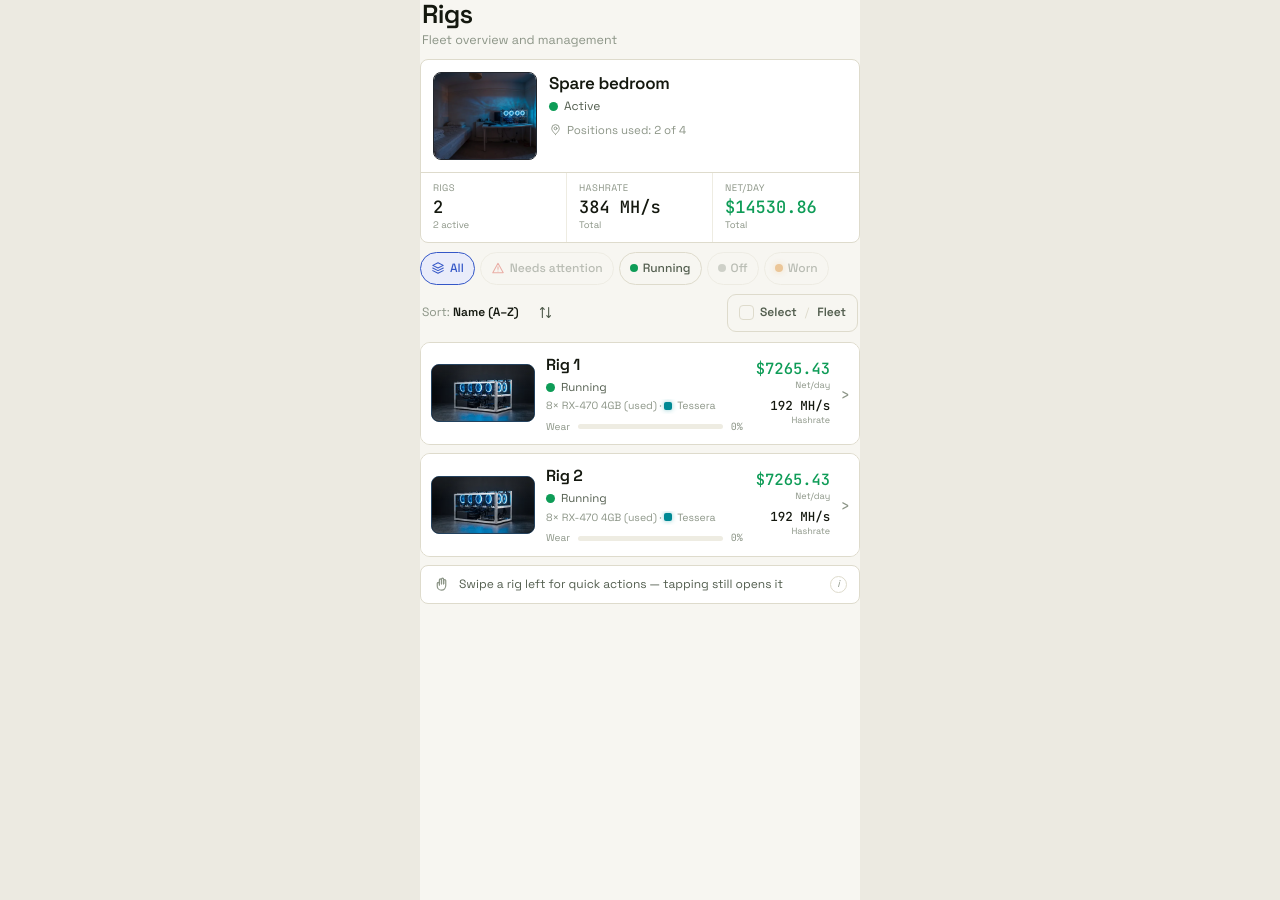
RigsView › the fleet actions sheet › opens with the whole site in scope
Click the button "Fleet".
click(832, 313)  # box [811,295,852,331]
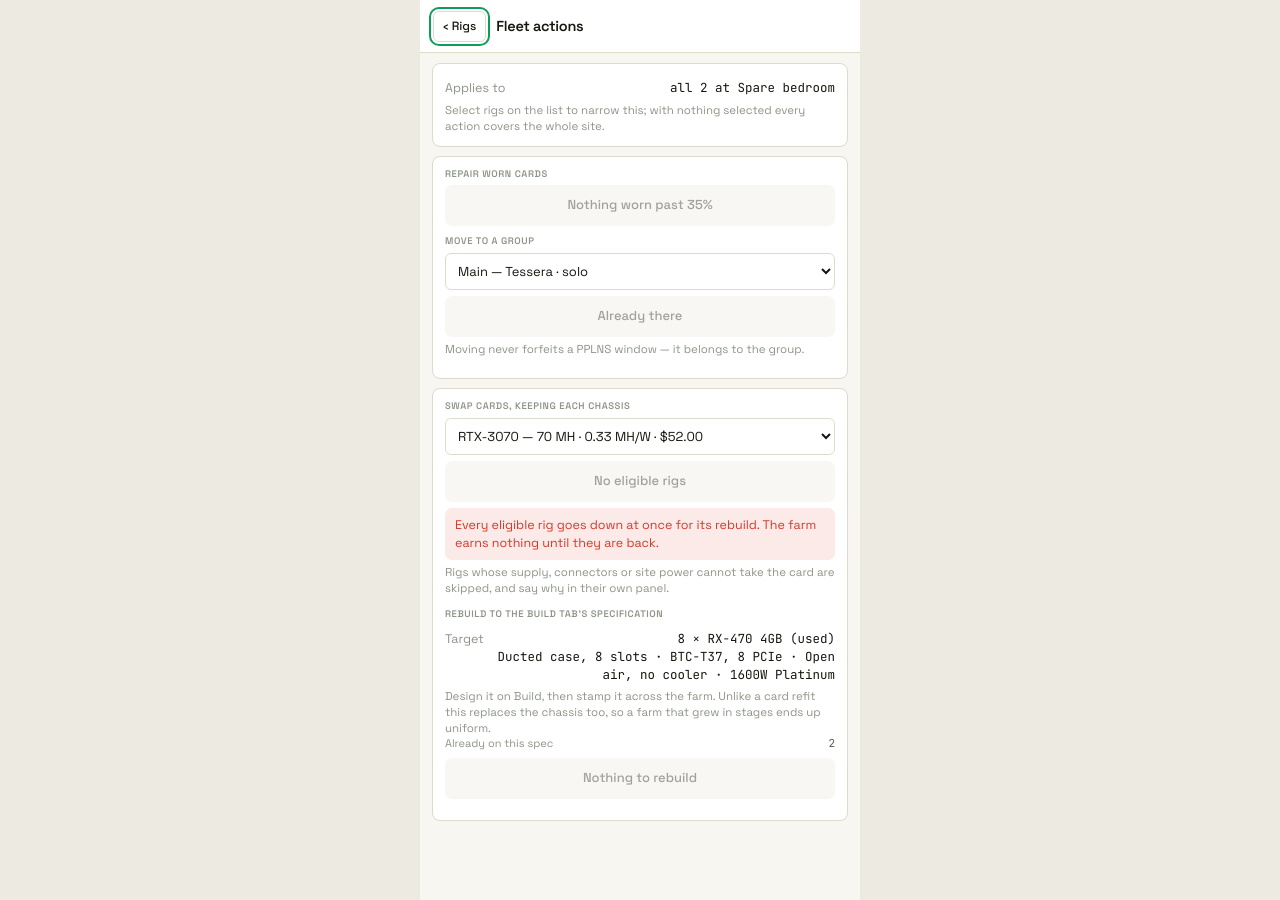
Expected: the text "Fleet actions" is shown, [496,17,583,35]
